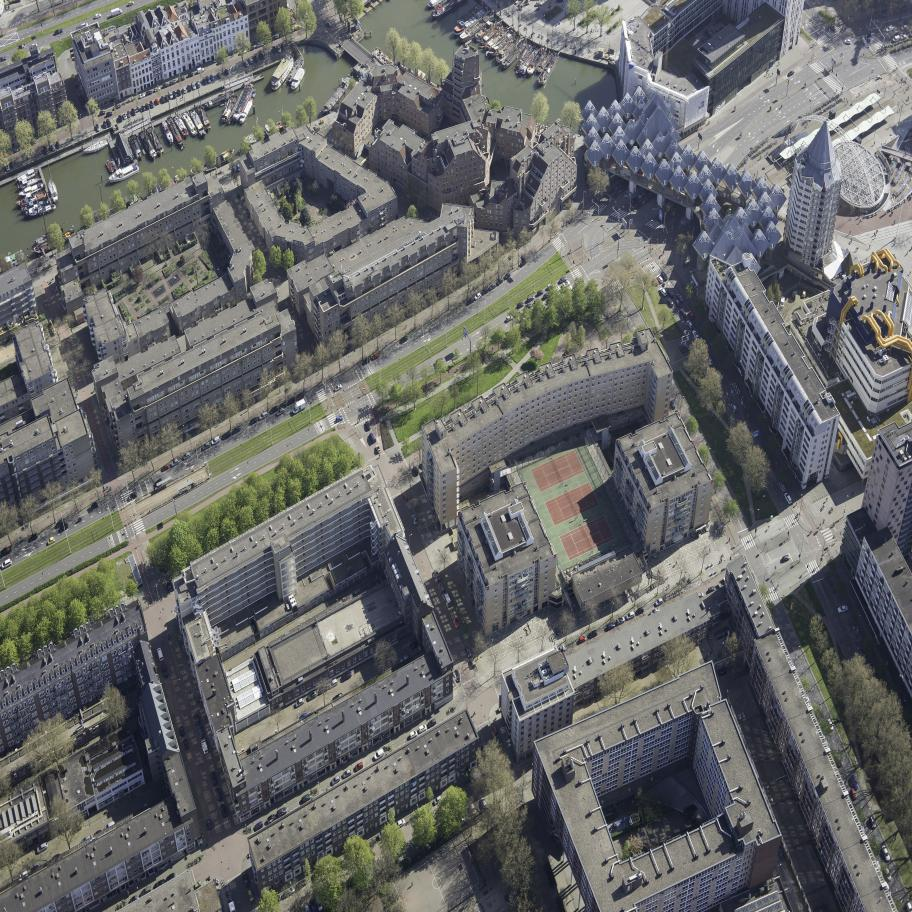large-vehicle: (289, 398, 309, 416), (372, 748, 386, 761), (110, 6, 123, 17)
ship: (79, 190, 147, 231), (185, 144, 240, 182), (453, 6, 498, 46), (318, 73, 356, 117), (241, 118, 291, 150), (264, 48, 298, 95), (450, 2, 493, 38), (30, 225, 78, 256), (229, 78, 258, 126), (496, 34, 532, 72), (492, 30, 525, 66), (147, 171, 189, 198), (534, 49, 563, 88), (485, 26, 518, 59), (478, 23, 512, 55), (470, 15, 501, 44), (22, 197, 60, 220), (477, 19, 506, 49), (454, 1, 485, 29), (106, 161, 142, 185), (13, 187, 49, 210), (525, 42, 548, 78), (512, 40, 535, 74), (202, 89, 237, 111), (518, 44, 541, 76), (237, 93, 257, 127), (164, 115, 185, 147), (288, 63, 308, 95), (138, 128, 158, 160), (145, 125, 165, 157), (16, 180, 47, 199), (188, 107, 207, 138), (534, 48, 554, 75), (33, 228, 62, 246), (127, 133, 144, 162), (81, 139, 109, 156), (15, 166, 41, 184), (181, 111, 199, 137), (15, 175, 42, 192), (160, 118, 175, 147), (196, 104, 212, 131), (173, 114, 190, 139), (46, 177, 60, 205), (104, 158, 115, 175), (109, 156, 119, 173), (180, 144, 186, 151)
small-vehicle: (34, 841, 50, 855), (377, 827, 393, 841), (776, 842, 786, 863), (393, 817, 408, 830), (468, 770, 483, 783), (294, 878, 309, 891), (282, 886, 297, 899), (881, 844, 891, 863), (256, 410, 270, 423), (138, 885, 153, 897), (152, 878, 167, 890), (339, 671, 354, 683), (268, 894, 283, 906), (442, 592, 453, 608), (874, 860, 884, 877), (125, 491, 139, 503), (28, 864, 42, 876), (398, 654, 412, 666), (160, 662, 170, 678), (850, 774, 860, 790), (104, 820, 117, 832), (327, 678, 340, 690), (648, 607, 662, 618), (252, 820, 266, 831), (407, 640, 421, 651), (331, 693, 345, 704), (275, 806, 289, 817), (315, 894, 324, 911), (209, 770, 218, 786), (883, 866, 892, 882), (293, 697, 306, 708), (306, 690, 319, 701), (329, 775, 342, 786), (300, 792, 313, 803), (311, 869, 324, 880), (241, 872, 250, 887), (457, 808, 466, 823), (868, 815, 877, 830), (54, 518, 67, 528), (80, 835, 93, 845), (164, 873, 177, 883), (317, 685, 330, 695), (777, 480, 787, 493), (783, 492, 793, 505), (368, 430, 377, 444), (432, 795, 443, 806), (518, 258, 529, 269), (57, 523, 69, 533), (220, 431, 232, 441), (156, 647, 164, 662), (45, 536, 57, 546), (201, 740, 209, 755), (214, 787, 222, 802), (426, 718, 438, 728), (396, 848, 404, 863), (138, 802, 150, 812), (128, 895, 140, 905), (837, 604, 849, 614), (265, 813, 277, 823), (587, 629, 599, 639), (614, 616, 626, 626), (411, 464, 420, 477), (856, 646, 865, 659), (849, 787, 858, 800), (219, 804, 227, 818), (247, 889, 255, 903), (433, 568, 441, 582), (286, 396, 297, 406), (28, 533, 39, 543), (269, 405, 280, 415), (51, 853, 62, 863), (625, 610, 636, 620), (741, 422, 750, 434), (193, 713, 201, 726), (821, 734, 829, 747), (884, 883, 892, 896), (690, 439, 698, 452), (826, 718, 834, 731), (410, 514, 418, 527), (706, 354, 714, 367), (89, 501, 100, 510), (654, 597, 665, 606), (659, 286, 668, 297), (18, 871, 29, 880), (153, 477, 164, 486), (170, 458, 181, 467), (201, 442, 212, 451), (210, 436, 221, 445), (231, 425, 242, 434), (248, 416, 259, 425), (295, 391, 306, 400), (675, 292, 684, 303), (408, 730, 419, 739), (417, 724, 428, 733), (577, 635, 588, 644), (298, 713, 309, 722), (780, 554, 791, 563), (605, 621, 616, 630), (558, 275, 569, 284), (525, 294, 536, 303), (354, 762, 365, 771), (341, 769, 352, 778), (454, 669, 461, 683), (182, 738, 190, 750), (469, 657, 477, 669), (480, 797, 488, 809), (464, 646, 472, 658), (197, 725, 204, 738), (836, 754, 843, 767), (718, 668, 728, 677), (660, 271, 669, 281), (93, 829, 103, 838), (278, 401, 288, 410), (399, 335, 409, 344), (495, 277, 505, 286), (515, 301, 525, 310), (666, 298, 675, 308), (891, 34, 901, 43), (730, 402, 738, 413), (364, 420, 372, 431), (767, 462, 775, 473), (452, 618, 460, 629), (687, 310, 695, 321), (692, 330, 700, 341), (206, 819, 213, 831), (470, 803, 477, 815), (491, 725, 498, 737), (438, 582, 445, 594), (473, 292, 482, 301), (488, 282, 497, 291), (666, 289, 675, 298), (629, 197, 638, 206), (694, 591, 704, 599), (532, 297, 542, 305), (333, 384, 343, 392), (181, 452, 191, 460), (275, 408, 285, 416), (552, 285, 562, 293), (255, 41, 265, 49), (635, 607, 645, 615), (561, 280, 571, 288), (827, 25, 837, 33), (8, 148, 19, 155), (166, 582, 173, 593), (105, 110, 114, 118), (216, 58, 225, 66), (335, 415, 344, 423), (196, 66, 205, 74), (179, 725, 185, 737), (161, 463, 170, 471), (481, 287, 490, 295), (505, 315, 514, 323), (885, 25, 894, 33), (632, 201, 641, 209), (546, 282, 555, 290), (362, 357, 371, 365), (371, 353, 380, 361), (542, 292, 552, 299), (130, 107, 137, 117), (669, 400, 676, 410), (105, 118, 112, 128), (54, 28, 64, 35), (523, 303, 533, 310), (674, 410, 681, 420), (232, 165, 239, 175), (535, 289, 545, 296), (680, 307, 687, 317), (656, 275, 664, 283), (864, 36, 872, 44), (638, 191, 646, 199), (42, 146, 49, 155), (18, 144, 27, 151), (81, 101, 88, 110), (708, 586, 717, 593), (900, 24, 909, 31), (466, 297, 475, 304), (81, 22, 90, 29), (899, 33, 908, 40), (686, 320, 693, 329), (780, 296, 785, 308), (402, 492, 408, 502), (904, 28, 912, 35), (29, 139, 37, 146), (94, 12, 102, 19), (138, 92, 146, 99), (153, 86, 161, 93), (162, 82, 170, 89), (169, 79, 177, 86), (117, 115, 124, 123), (205, 76, 212, 84), (243, 59, 250, 67), (190, 82, 197, 90), (294, 24, 302, 31), (674, 299, 681, 307), (787, 70, 795, 77), (113, 104, 122, 110), (102, 120, 108, 129), (177, 76, 186, 82), (248, 56, 254, 65), (375, 445, 381, 454), (792, 290, 797, 300), (325, 20, 332, 27), (504, 272, 511, 279), (160, 96, 166, 104), (164, 94, 170, 102), (98, 110, 106, 116), (145, 90, 153, 96), (122, 112, 128, 120), (195, 80, 201, 88), (202, 78, 208, 86), (253, 55, 259, 63), (239, 49, 247, 55), (247, 46, 255, 52), (272, 46, 278, 54), (271, 35, 279, 41), (278, 32, 286, 38), (287, 28, 295, 34), (18, 43, 26, 49), (259, 52, 265, 60), (844, 39, 852, 45), (801, 290, 807, 298), (149, 100, 154, 109), (168, 91, 173, 100), (95, 123, 100, 132), (154, 98, 160, 105), (172, 91, 178, 98), (187, 72, 194, 78), (176, 89, 182, 96), (73, 82, 79, 89), (77, 94, 83, 101), (209, 74, 215, 81), (217, 72, 223, 79), (128, 0, 135, 6), (865, 32, 872, 38), (51, 143, 56, 151), (5, 163, 10, 171), (9, 161, 14, 169), (145, 102, 150, 110), (224, 68, 229, 76), (276, 45, 281, 53), (126, 110, 131, 118), (280, 43, 285, 51), (237, 163, 241, 173), (187, 85, 192, 92), (182, 87, 187, 94), (56, 141, 60, 149), (536, 1, 542, 6), (141, 105, 145, 112)
